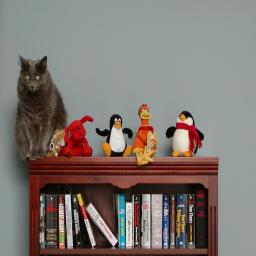catnose: (31, 84, 35, 89)
